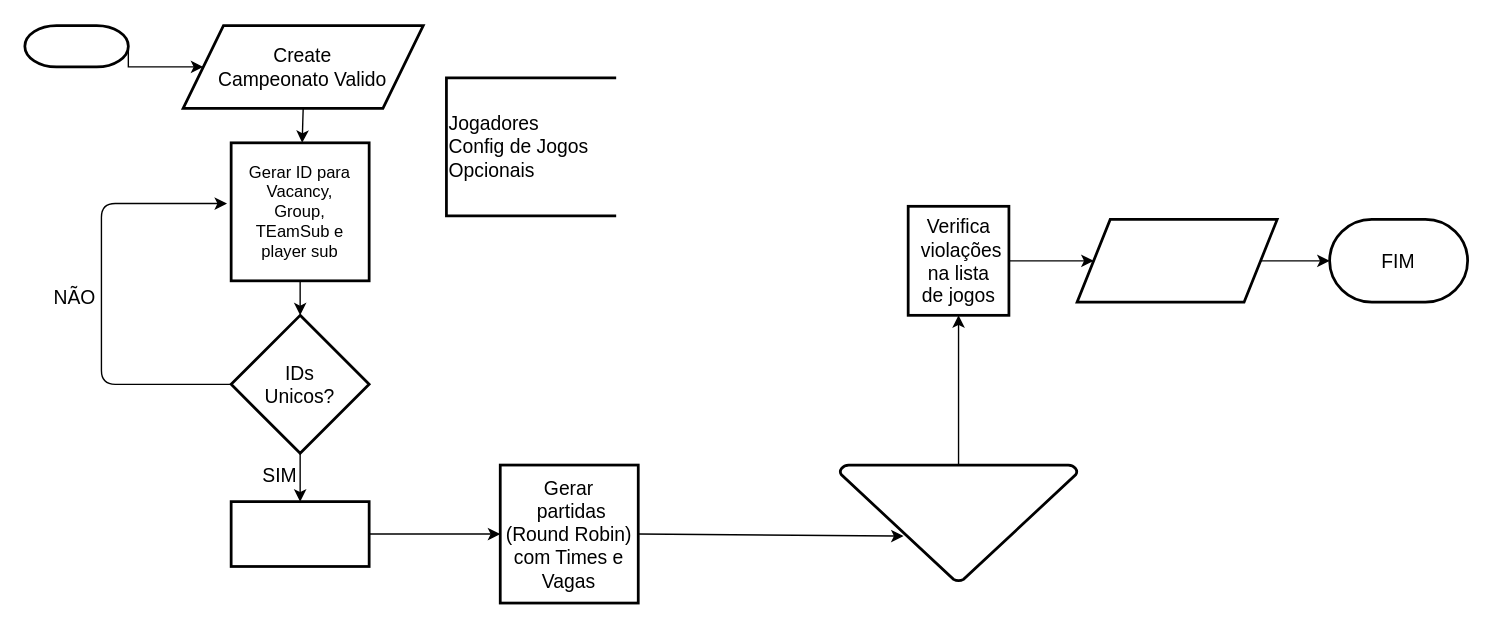
Image size: 1493x628. Some labels were removed from this diagram. Each missing label, with the centre of its shape:
Gerar Estatisticas: the point at 299,533
inicio: the point at 76,45
Retorna a lista de jogos organizadas: the point at 1176,260
Salvar Times, Group jogadores e Vacancy: the point at 958,522
